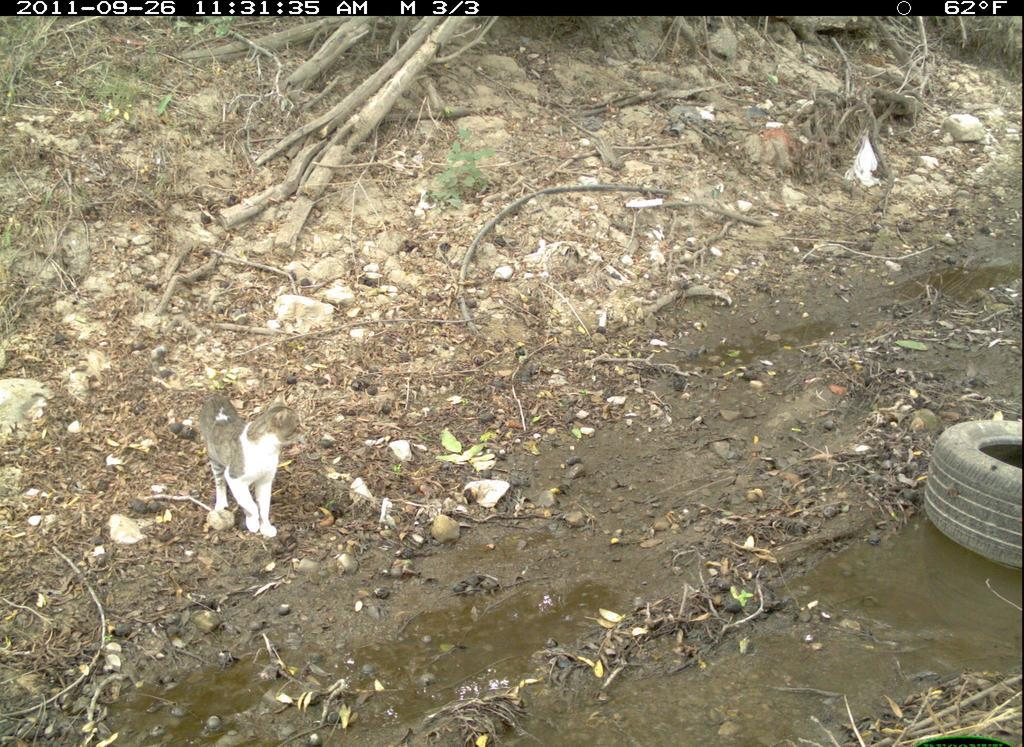cat: (195, 385, 314, 542)
